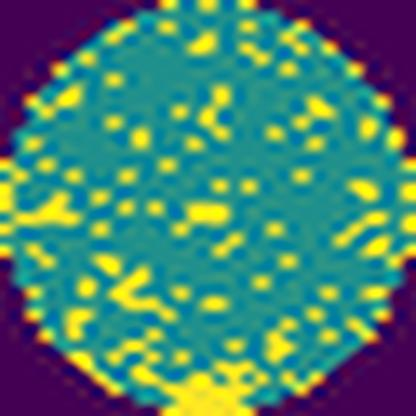Edge-Loc: (130, 354, 267, 416)
